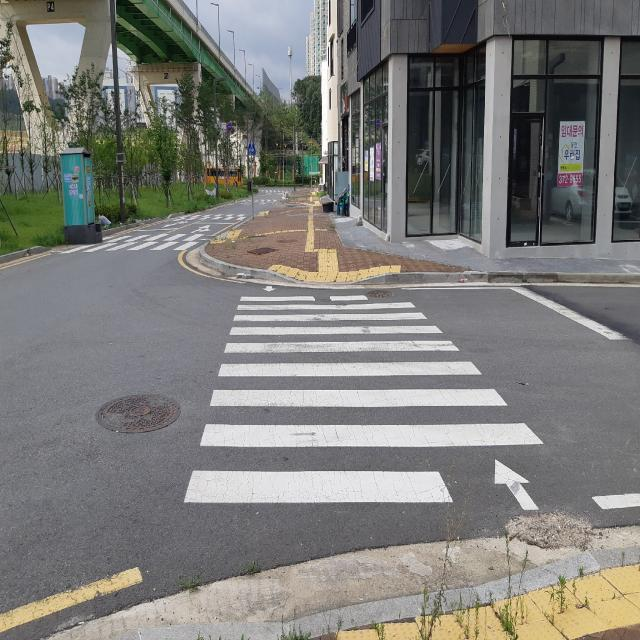횡단보도: (179, 280, 546, 518), (71, 226, 213, 256)
